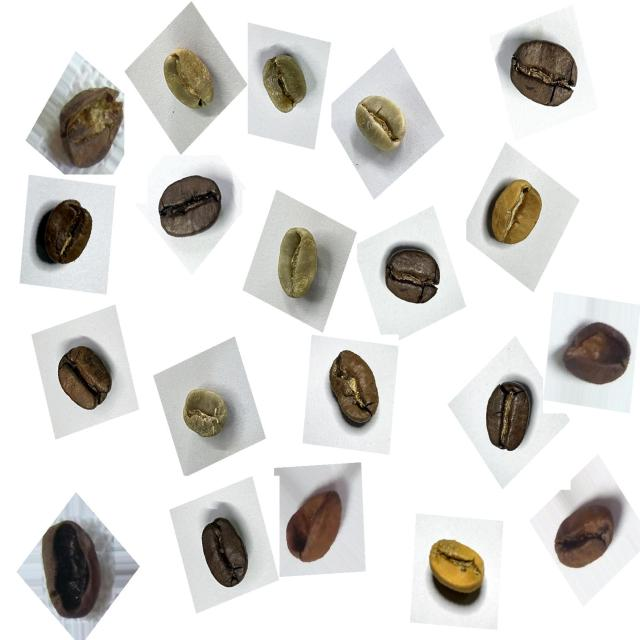bad: (26, 509, 116, 627), (50, 76, 131, 181), (278, 471, 354, 577), (544, 486, 626, 582), (554, 308, 636, 403)
dark: (498, 28, 586, 122), (146, 162, 228, 254), (473, 372, 543, 464), (190, 507, 260, 598), (378, 238, 451, 321)
green: (265, 215, 335, 315), (153, 36, 223, 124), (346, 84, 418, 166), (251, 44, 318, 128), (172, 376, 240, 451)
light: (420, 526, 500, 620), (480, 168, 557, 260)
medium: (315, 342, 392, 440), (46, 335, 120, 424), (30, 190, 104, 278)
